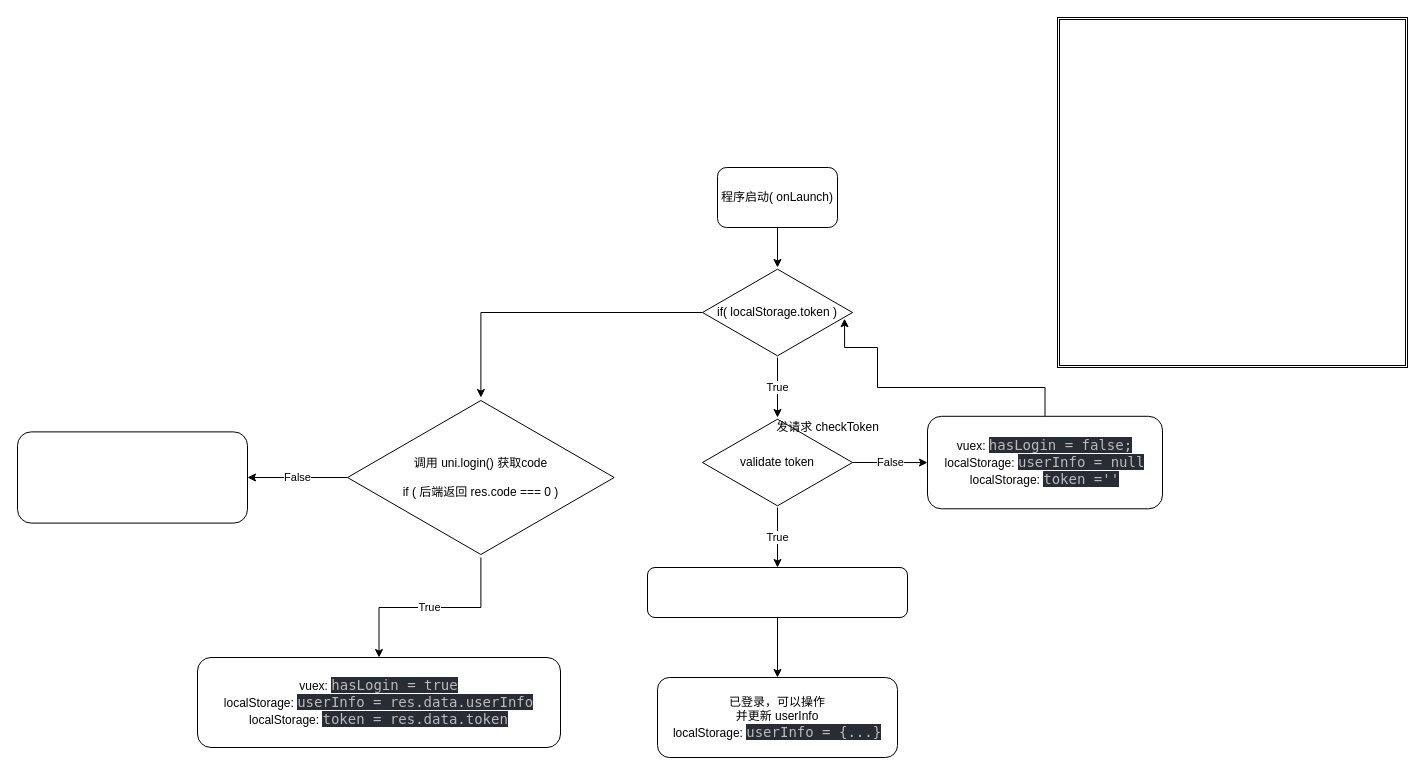
Image size: 1425x775. Some labels were removed from this diagram. The shapes that lost their labels are listed below. From the top down, each one's centre as x and y in pixels, then its label:
the point at 1232,192: 通过 vuex 的 hasLogin 是否为 true 来判断，是进行后续操作还是跳到登录页
the point at 132,477: vuex: hasLogin = false localStorage: userInfo = null localStorage: token = ''
the point at 777,592: vuex: hasLogin = true;
